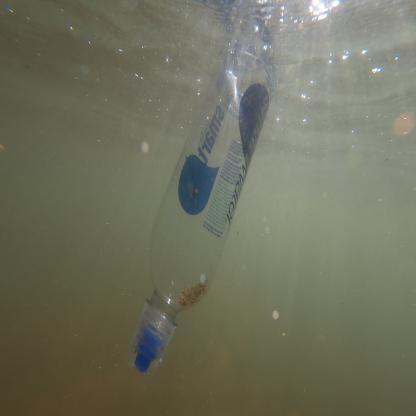Rác: (132, 41, 282, 371)
